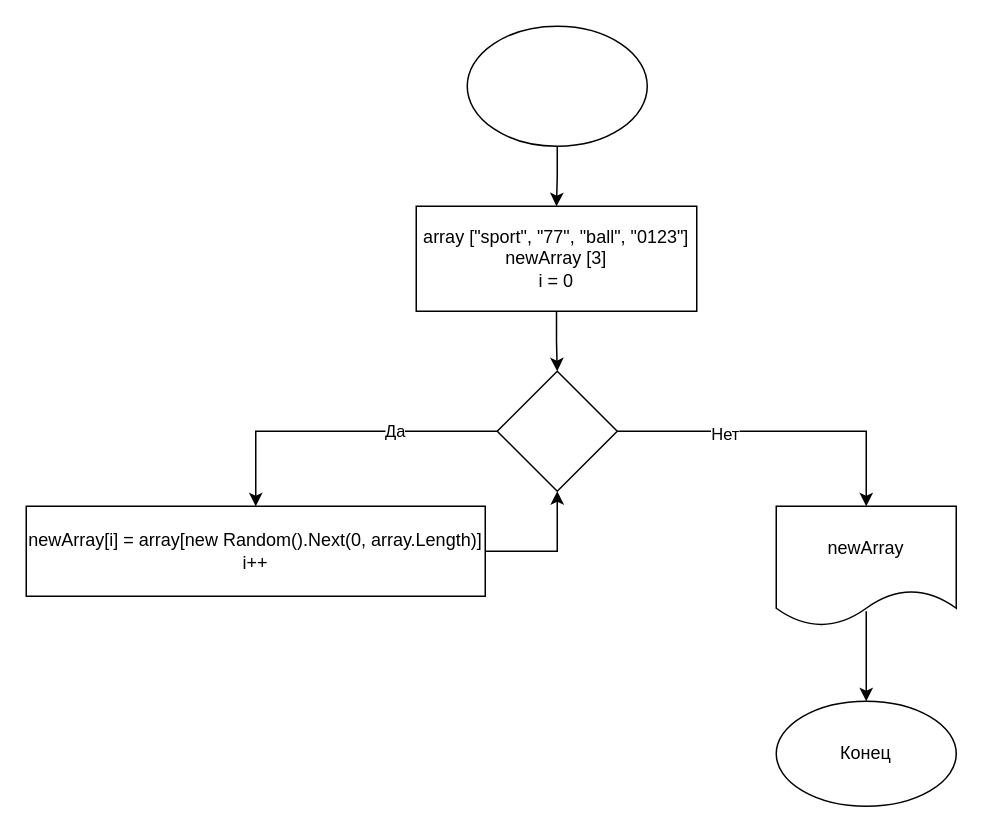
This 983x833 diagram has some shape labels left out. Each missing label, with the centre of its shape:
i < 3: (556,430)
Начало: (556,85)
